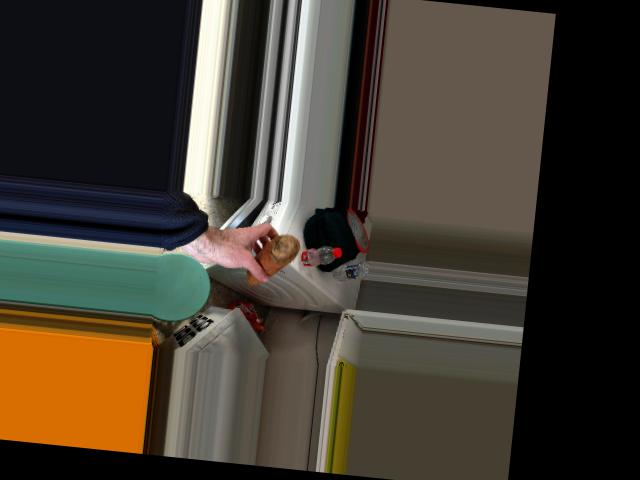sweet_potato: (245, 226, 300, 294)
